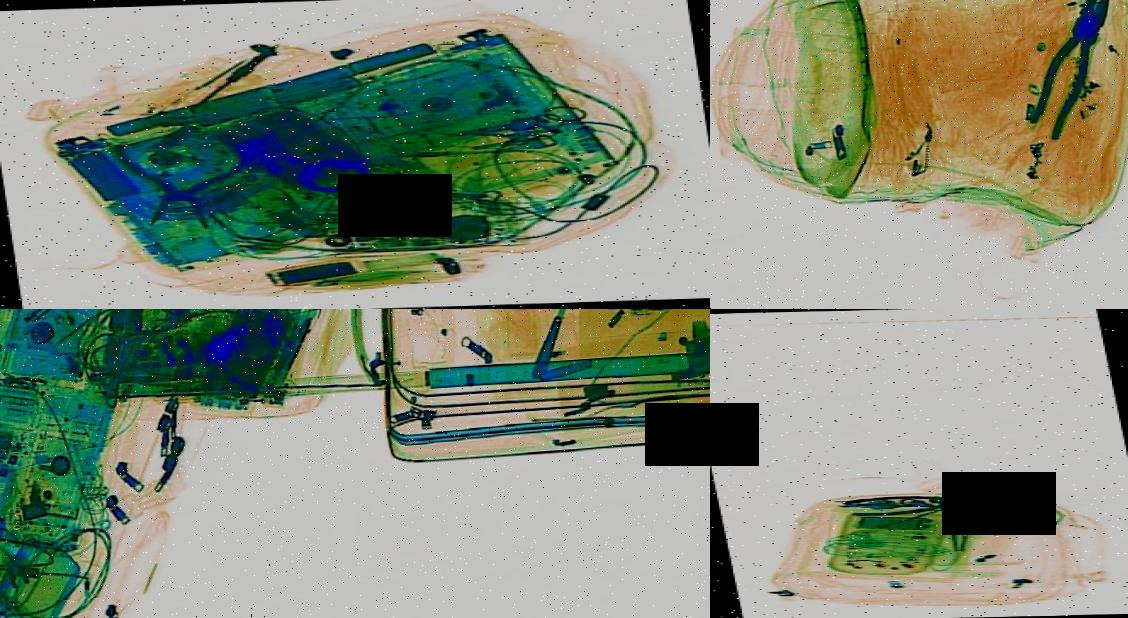Knife: (518, 309, 585, 377)
Pliers: (1010, 0, 1128, 143), (90, 137, 262, 233), (834, 486, 1015, 518)
